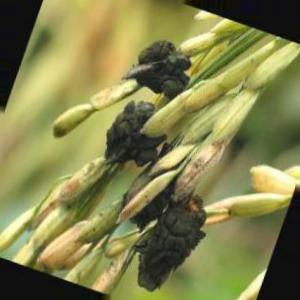Leaf_Scald: (105, 89, 160, 167), (133, 36, 187, 104), (148, 197, 212, 254), (138, 242, 172, 285)
